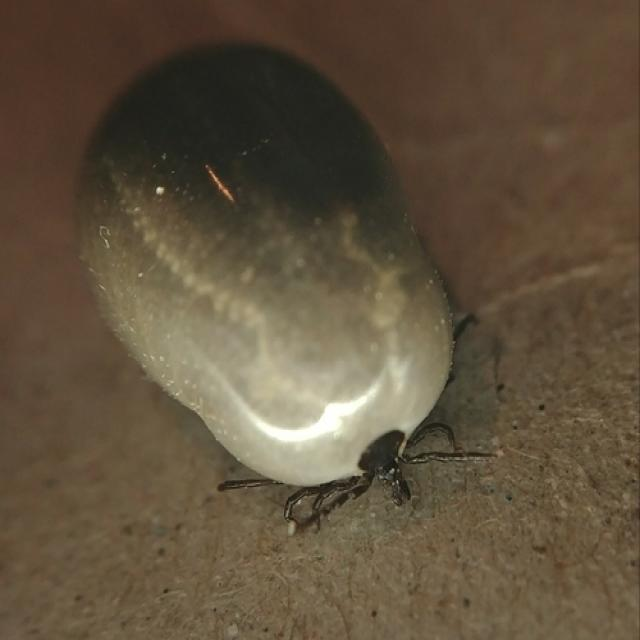Ixodes Ricinus-F: (77, 43, 500, 536)
